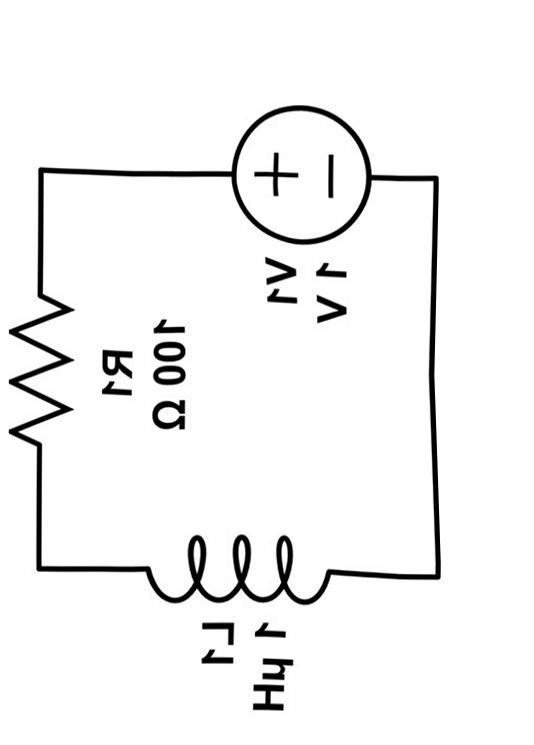Battery: (214, 86, 405, 252)
